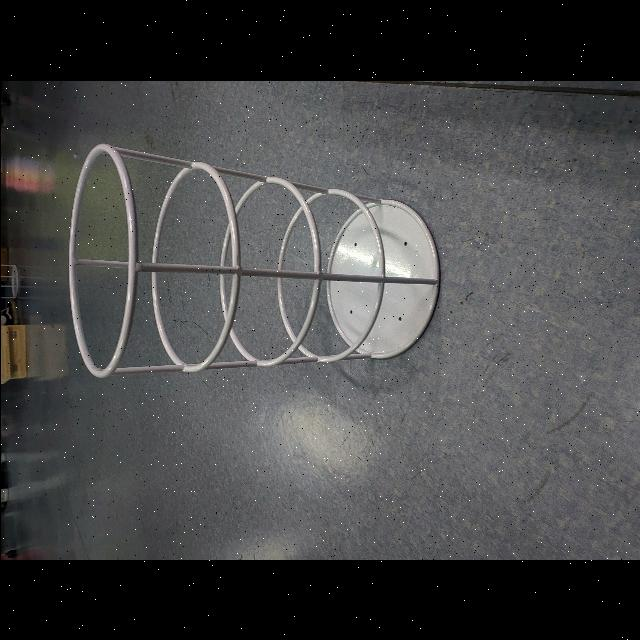S: (61, 140, 443, 384)
